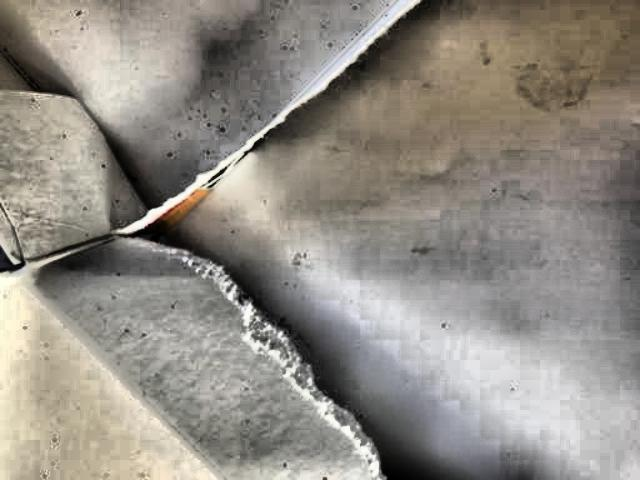Paper: (0, 0, 426, 480)
